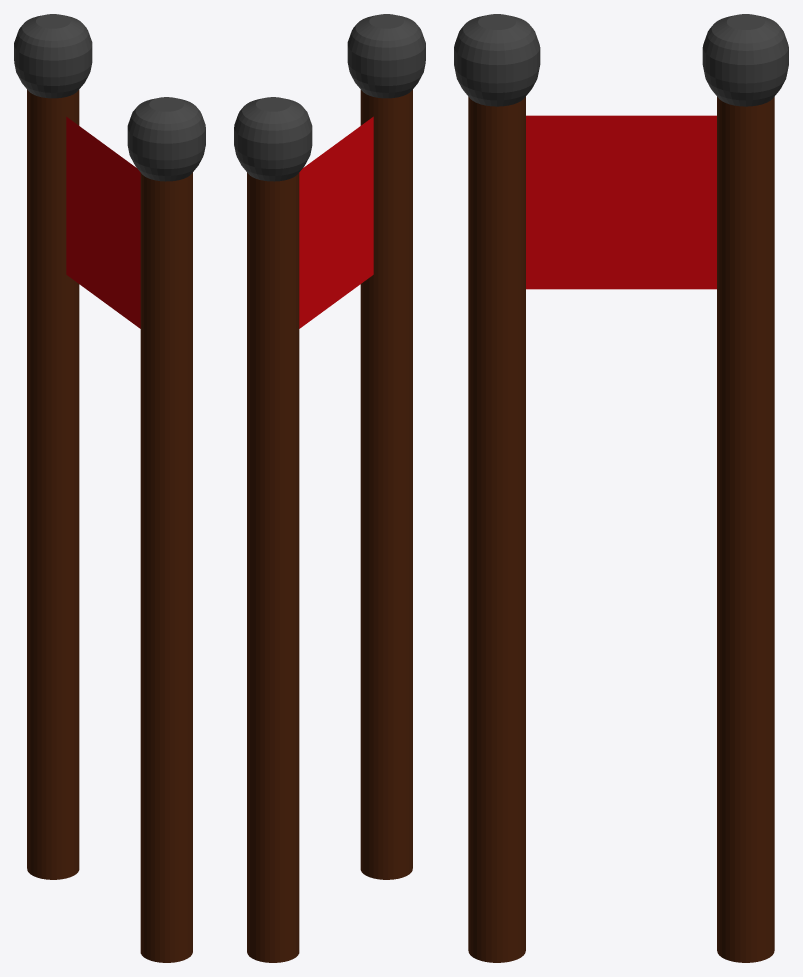
File: Gate_R.fbx
3 views of the same model, side by side, from view 1: azimuth 30°, elevation 25°; view 2: azimuth 150°, elevation 25°; view 3: azimuth 270°, elevation 25° (orthographic). The views are drawn at different scales.
Visible parts, largest first — view 1: Gate_R; view 2: Gate_R; view 3: Gate_R.
Boxes of the visible parts, bbox=[...] form: Gate_R: bbox=[14, 14, 205, 962]; Gate_R: bbox=[234, 14, 425, 962]; Gate_R: bbox=[454, 14, 788, 962].
Bounding box in the file's own units: 90 × 1071 × 350.
